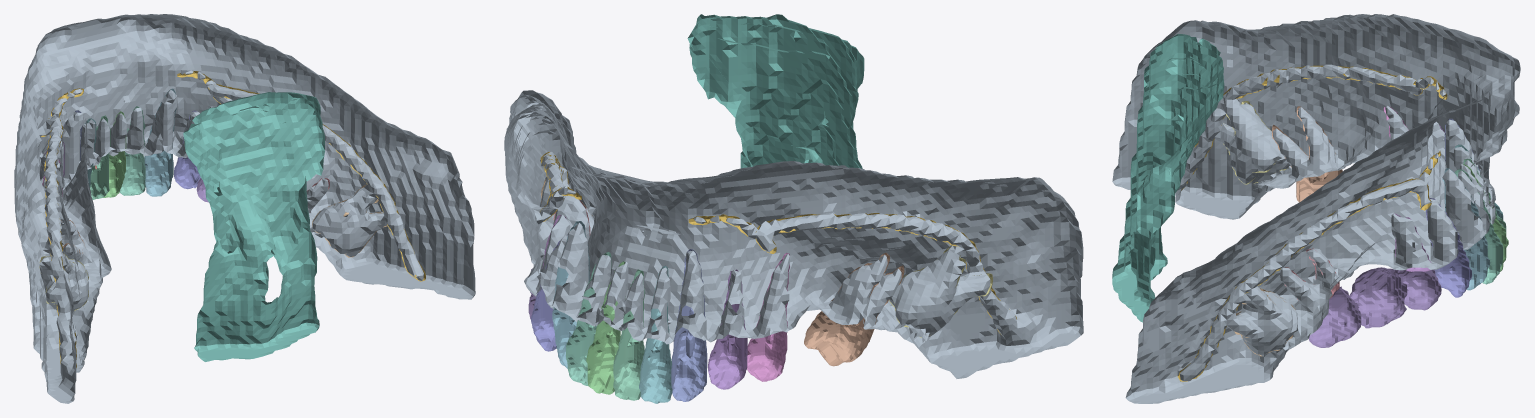
Rendered from ToothFairy3P_002.glb.
The picture shows the model from 3 angles, left to right: view 1: azimuth 30°, elevation 25°; view 2: azimuth 150°, elevation 25°; view 3: azimuth 270°, elevation 25°; orthographic projection. The views are drawn at different scales.
Visible parts, largest first — view 1: jaws__1, other__7, teeth__33, teeth__32, teeth__41, teeth__31, teeth__34, canals__3; view 2: jaws__1, other__7, teeth__47, teeth__43, teeth__42, teeth__31, teeth__44, teeth__41, teeth__45, teeth__32, teeth__33, teeth__34 (+1 smaller); view 3: jaws__1, other__7, restorations__9, restorations__8, teeth__34, teeth__33, teeth__47, teeth__32, canals__3, canals__4, teeth__31.
Boxes of the visible parts, <box> form: jaws__1: <box>14,14,475,403</box>; other__7: <box>183,92,324,361</box>; teeth__33: <box>144,88,176,196</box>; teeth__32: <box>119,106,145,195</box>; teeth__41: <box>90,115,110,199</box>; teeth__31: <box>103,111,126,197</box>; teeth__34: <box>174,110,200,189</box>; canals__3: <box>213,83,425,281</box>; jaws__1: <box>504,90,1083,378</box>; other__7: <box>687,14,864,168</box>; teeth__47: <box>804,252,904,366</box>; teeth__43: <box>671,249,707,401</box>; teeth__42: <box>639,265,672,403</box>; teeth__31: <box>586,261,625,394</box>; teeth__44: <box>708,269,747,389</box>; teeth__41: <box>613,269,645,400</box>; teeth__45: <box>747,253,789,381</box>; teeth__32: <box>566,252,611,386</box>; teeth__33: <box>552,221,589,368</box>; teeth__34: <box>531,234,567,351</box>; jaws__1: <box>1112,14,1520,403</box>; other__7: <box>1112,34,1224,322</box>; restorations__9: <box>1309,269,1441,347</box>; restorations__8: <box>1349,267,1407,328</box>; teeth__34: <box>1426,198,1471,297</box>; teeth__33: <box>1442,168,1490,290</box>; teeth__47: <box>1272,106,1342,202</box>; teeth__32: <box>1455,169,1503,284</box>; canals__3: <box>1177,178,1431,381</box>; canals__4: <box>1181,65,1422,190</box>; teeth__31: <box>1463,164,1508,271</box>.
Size of the model in its own units: 106 by 50.51 by 79.39.
